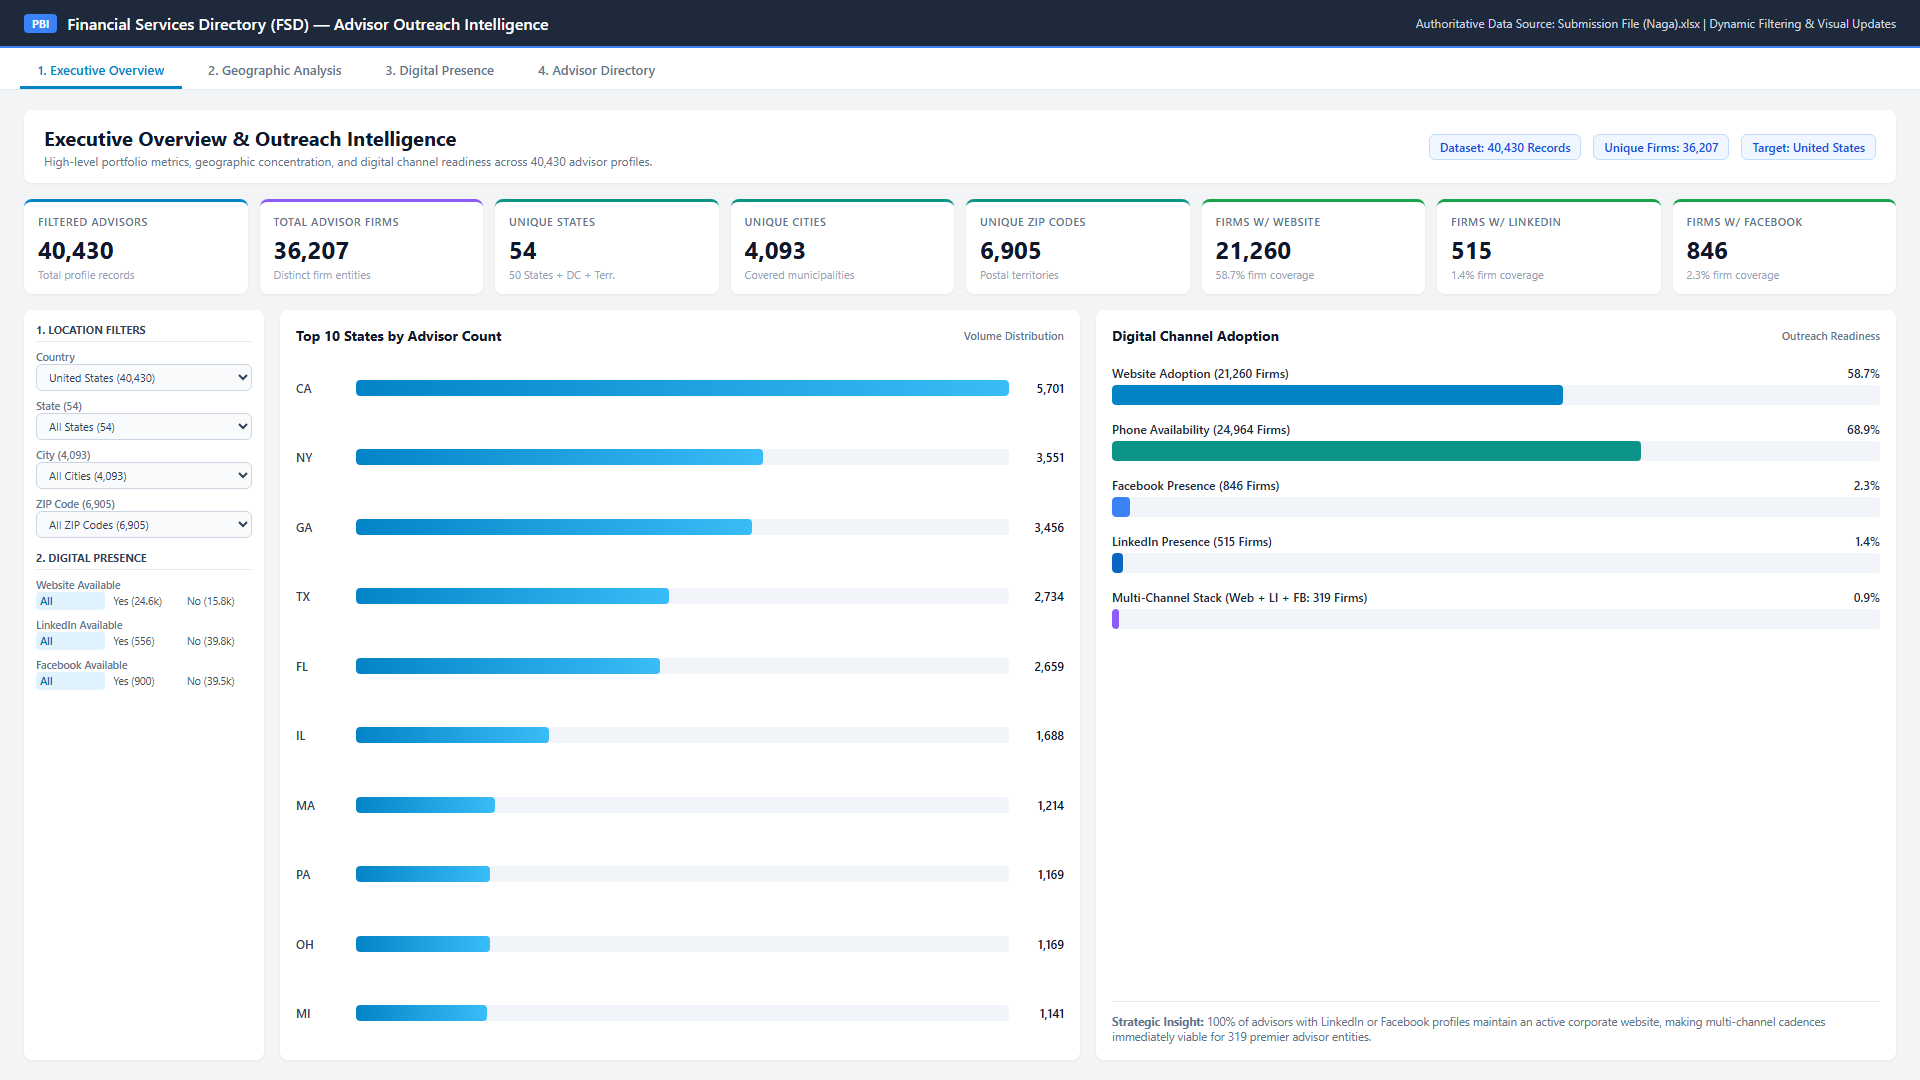

What the dashboard file says about the page in this screenshot:
{"tool":"powerbi","page":{"name":"Executive Overview","canvas":[1280,720],"ordinal":0},"visuals":[{"type":"card","fields":{"Values":["_Measures.Filtered Advisor Count"]},"box":[20,20,140,85],"z":1000},{"type":"card","fields":{"Values":["_Measures.Total Advisor Firms"]},"box":[170,20,140,85],"z":1000},{"type":"card","fields":{"Values":["_Measures.Unique States"]},"box":[320,20,130,85],"z":1000},{"type":"card","fields":{"Values":["_Measures.Unique Cities"]},"box":[460,20,130,85],"z":1000},{"type":"card","fields":{"Values":["_Measures.Unique ZIP Codes"]},"box":[600,20,130,85],"z":1000},{"type":"card","fields":{"Values":["_Measures.Firms with Website"]},"box":[740,20,160,85],"z":1000},{"type":"card","fields":{"Values":["_Measures.Firms with LinkedIn"]},"box":[910,20,160,85],"z":1000},{"type":"card","fields":{"Values":["_Measures.Firms with Facebook"]},"box":[1080,20,170,85],"z":1000},{"type":"slicer","fields":{"Values":["FSD Directory.country"]},"box":[20,115,180,75],"z":1000},{"type":"clusteredBarChart","fields":{"Category":["FSD Directory.state"],"Y":["_Measures.Filtered Advisor Count"]},"box":[220,115,520,290],"z":1000},{"type":"clusteredBarChart","fields":{"Category":["FSD Directory.city"],"Y":["_Measures.Filtered Advisor Count"]},"box":[760,115,490,290],"z":1000},{"type":"slicer","fields":{"Values":["FSD Directory.state"]},"box":[20,195,180,80],"z":1000},{"type":"slicer","fields":{"Values":["FSD Directory.city"]},"box":[20,280,180,80],"z":1000},{"type":"slicer","fields":{"Values":["FSD Directory.zip"]},"box":[20,365,180,75],"z":1000},{"type":"tableEx","fields":{"Values":["FSD Directory.firm","FSD Directory.city","FSD Directory.state","FSD Directory.zip","FSD Directory.Website Available","FSD Directory.LinkedIn Available","FSD Directory.Facebook Available","FSD Directory.phone"]},"box":[220,420,1030,280],"z":1000},{"type":"slicer","fields":{"Values":["FSD Directory.Website Available"]},"box":[20,445,180,80],"z":1000},{"type":"slicer","fields":{"Values":["FSD Directory.LinkedIn Available"]},"box":[20,530,180,80],"z":1000},{"type":"slicer","fields":{"Values":["FSD Directory.Facebook Available"]},"box":[20,615,180,85],"z":1000}]}

Visuals, with their boxes on the page's 1280x720 design canvas (x1, y1, x2, y2). These are canvas units, not pixel positions in the 1920x1080 screenshot, which may show the page scaled, cropped or inside an application window:
card - _Measures.Filtered Advisor Count: (20, 20, 160, 105)
card - _Measures.Total Advisor Firms: (170, 20, 310, 105)
card - _Measures.Unique States: (320, 20, 450, 105)
card - _Measures.Unique Cities: (460, 20, 590, 105)
card - _Measures.Unique ZIP Codes: (600, 20, 730, 105)
card - _Measures.Firms with Website: (740, 20, 900, 105)
card - _Measures.Firms with LinkedIn: (910, 20, 1070, 105)
card - _Measures.Firms with Facebook: (1080, 20, 1250, 105)
slicer - FSD Directory.country: (20, 115, 200, 190)
clusteredBarChart - FSD Directory.state x _Measures.Filtered Advisor Count: (220, 115, 740, 405)
clusteredBarChart - FSD Directory.city x _Measures.Filtered Advisor Count: (760, 115, 1250, 405)
slicer - FSD Directory.state: (20, 195, 200, 275)
slicer - FSD Directory.city: (20, 280, 200, 360)
slicer - FSD Directory.zip: (20, 365, 200, 440)
tableEx - FSD Directory.firm x FSD Directory.city: (220, 420, 1250, 700)
slicer - FSD Directory.Website Available: (20, 445, 200, 525)
slicer - FSD Directory.LinkedIn Available: (20, 530, 200, 610)
slicer - FSD Directory.Facebook Available: (20, 615, 200, 700)
